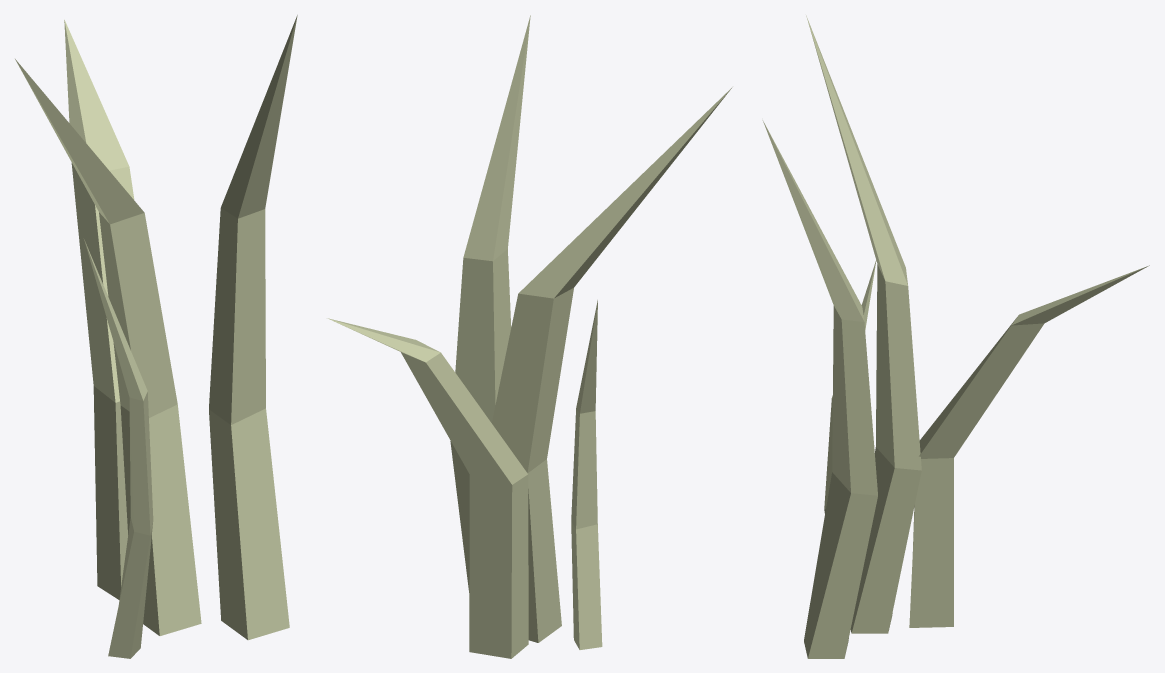
File: 01_02Grass_Brown.fbx
3 renders of one model, left to right at view 1: azimuth 30°, elevation 25°; view 2: azimuth 150°, elevation 25°; view 3: azimuth 270°, elevation 25°, orthographic. The views are drawn at different scales.
Visible parts, largest first — view 1: Icosphere.063; view 2: Icosphere.063; view 3: Icosphere.063.
Part boxes in pixels (x1,y1,x2,y2): Icosphere.063: (15,15,297,658); Icosphere.063: (327,15,732,658); Icosphere.063: (762,15,1149,658).
Bounding box in the file's own units: 30.47 × 67.63 × 44.07.
